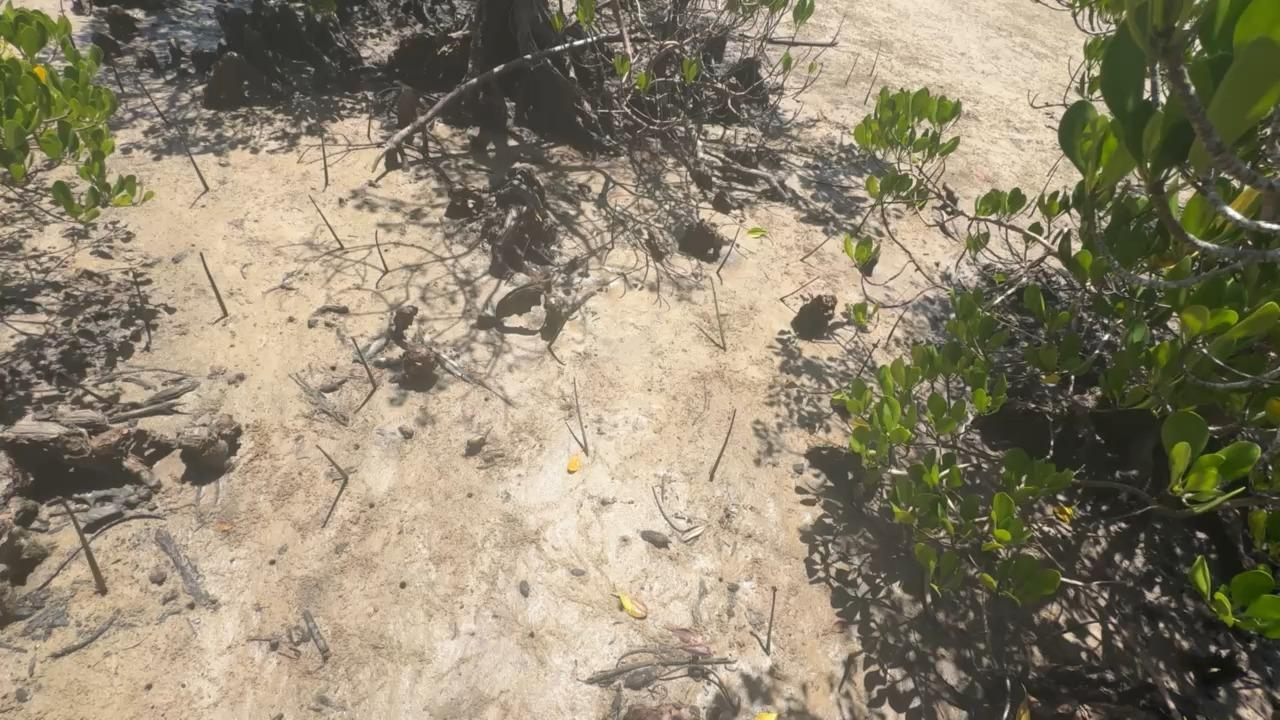Tree: (59, 498, 108, 597), (174, 122, 210, 191), (709, 408, 736, 482), (308, 195, 344, 249), (199, 252, 228, 316), (133, 71, 168, 123), (1027, 165, 1059, 218), (546, 296, 577, 348), (813, 14, 847, 61), (652, 486, 685, 532), (351, 336, 378, 390), (132, 270, 151, 344), (710, 276, 727, 352), (573, 377, 589, 457), (316, 445, 349, 481), (799, 232, 837, 262), (716, 227, 740, 273), (885, 307, 910, 349), (780, 276, 820, 301), (856, 338, 881, 378), (60, 0, 77, 49), (317, 119, 329, 187), (766, 586, 777, 656), (856, 203, 877, 235), (375, 229, 390, 272), (864, 72, 878, 105), (1046, 153, 1065, 177), (112, 59, 125, 94), (869, 42, 881, 77), (845, 54, 858, 85), (954, 245, 968, 273), (611, 199, 618, 249), (367, 98, 374, 139), (799, 46, 813, 64)
